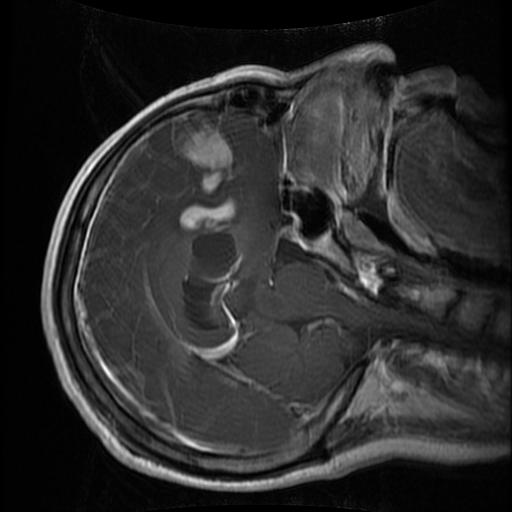glioma: (174, 112, 260, 334)
